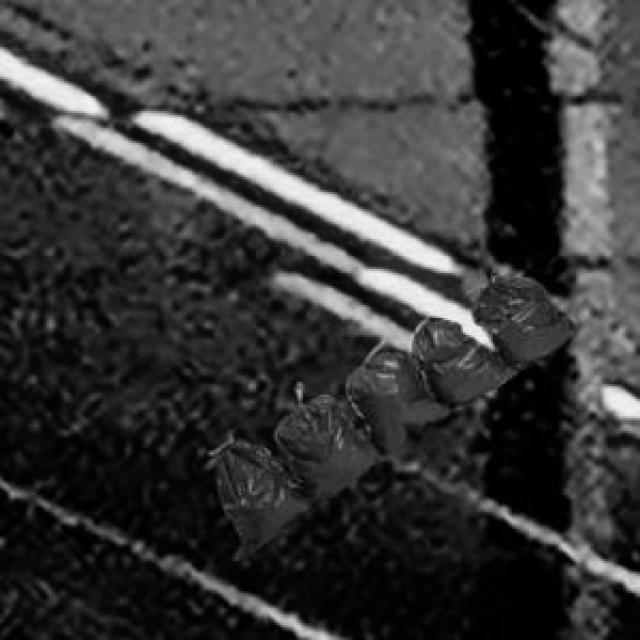miscellaneous trash: (213, 273, 572, 555)
